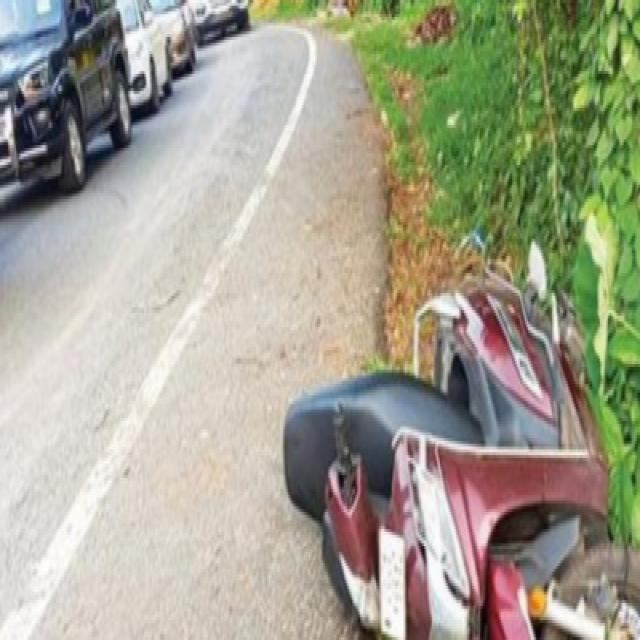accident: (284, 273, 640, 640)
car: (0, 0, 131, 191)
